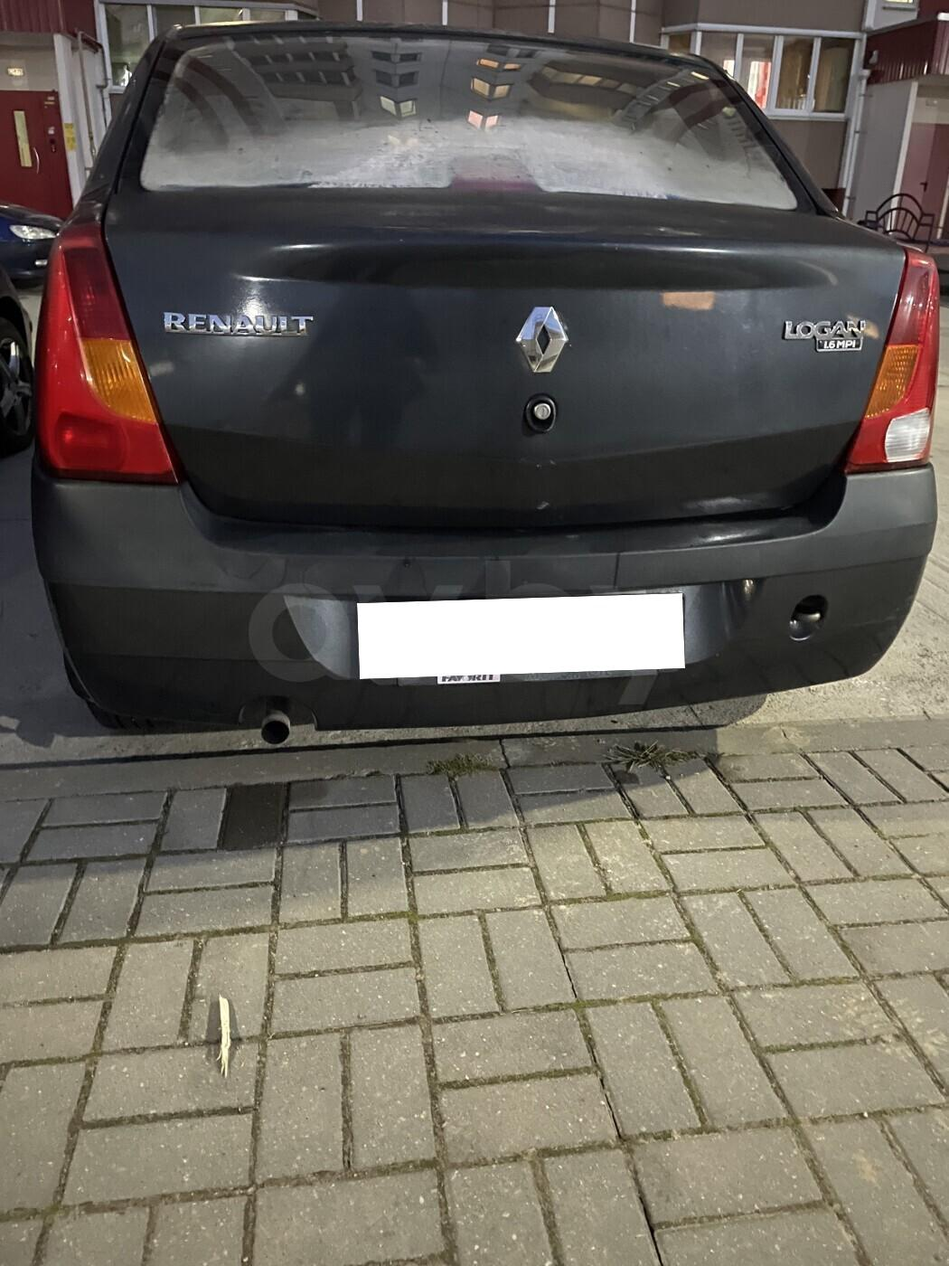Logan_2004-2009: (23, 16, 949, 752)
